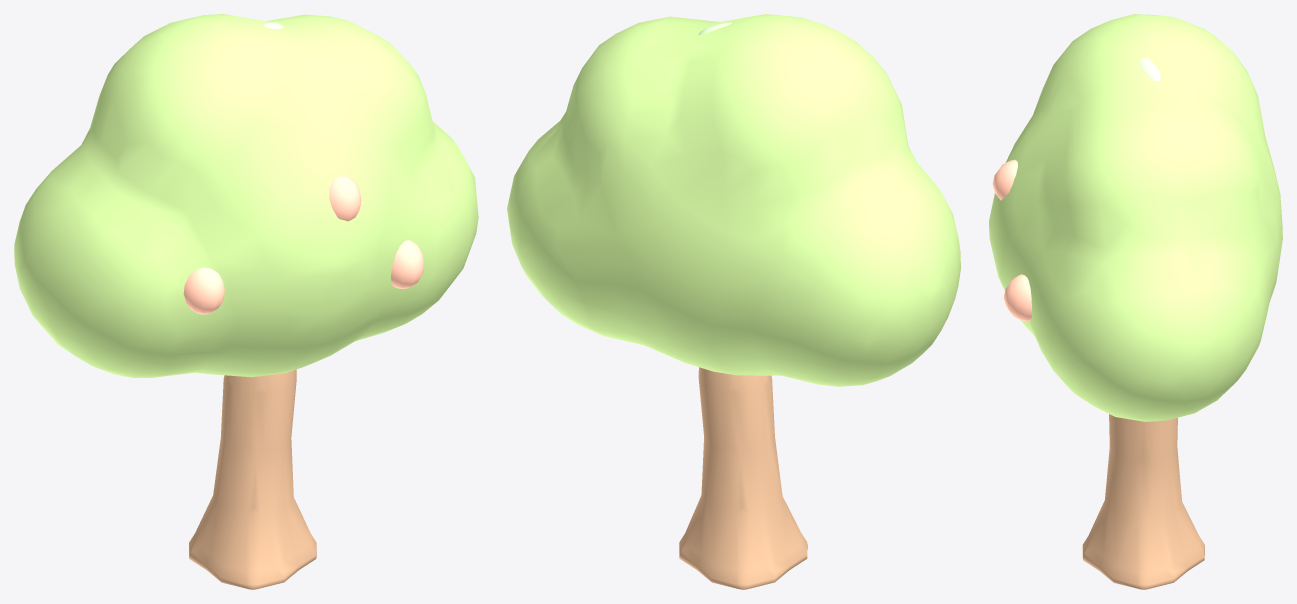
The model's file is tree-oak.glb.
The picture shows the model from 3 angles, left to right: view 1: azimuth 30°, elevation 25°; view 2: azimuth 150°, elevation 25°; view 3: azimuth 270°, elevation 25°; orthographic projection. The views are drawn at different scales.
Parts seen in each view (by area): view 1: tree-oak; view 2: tree-oak; view 3: tree-oak.
Part boxes in pixels (box(x1,y1,x2,y2)): tree-oak: box(14, 14, 478, 589); tree-oak: box(507, 14, 960, 589); tree-oak: box(989, 14, 1282, 589).
Bounding box in the file's own units: 3.84 × 4.67 × 2.39.
